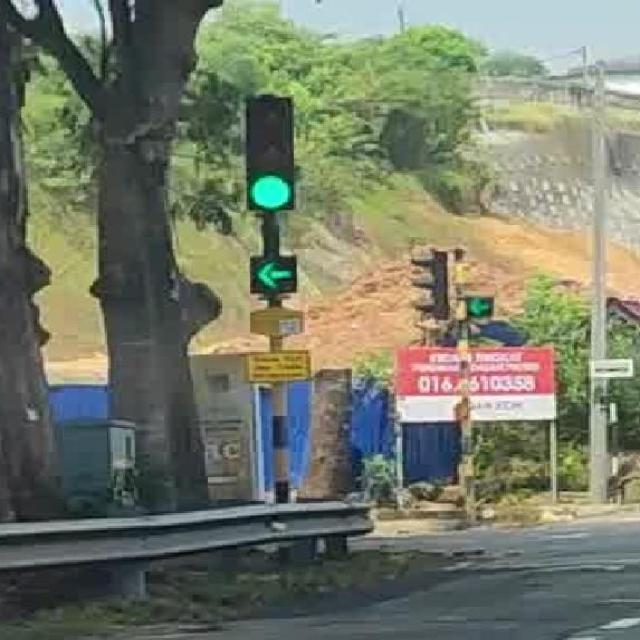green_light: (248, 175, 296, 295), (244, 96, 292, 210), (462, 250, 492, 316)
